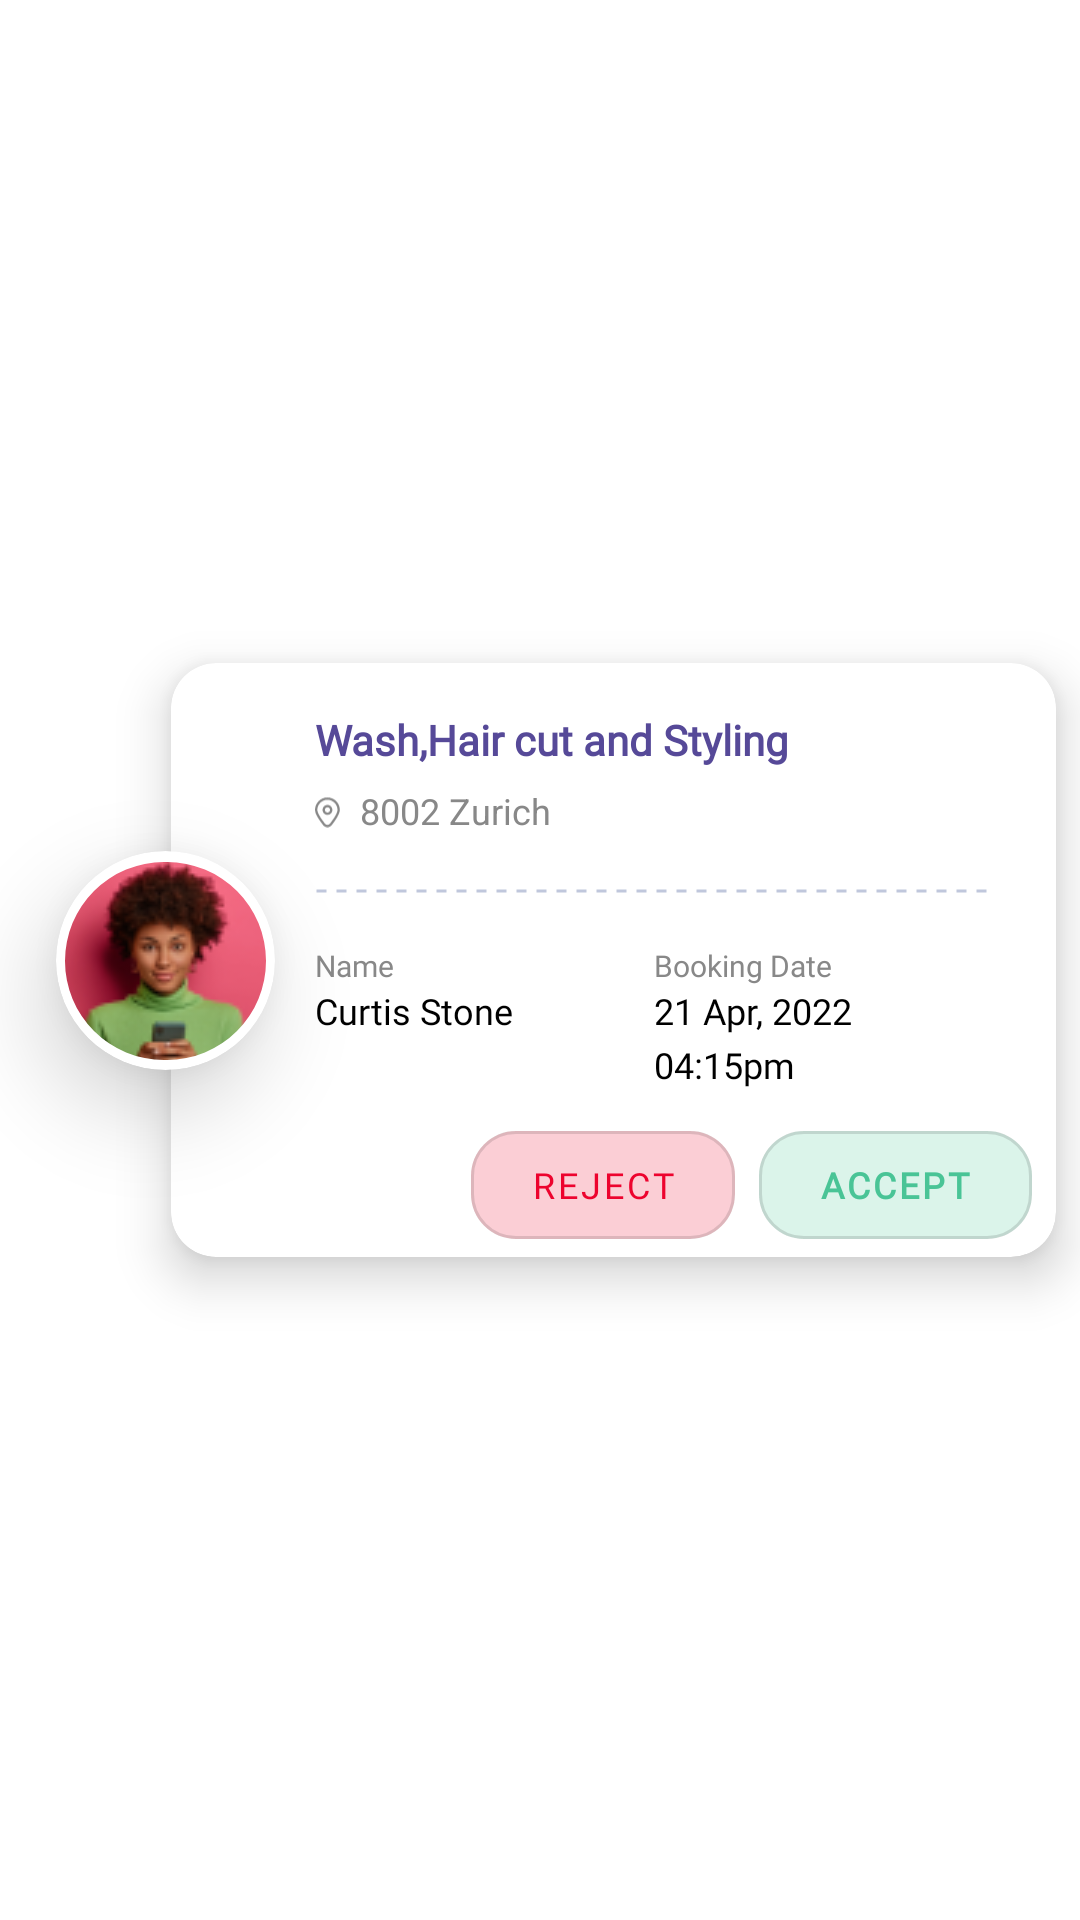

Point at icon controls on the screen. Image size 1080px×1920px, points as (x=x, y=y).
location: (x=327, y=812)
women: (x=165, y=961)
